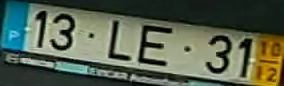1: (235, 36, 254, 80), (33, 9, 48, 50)
3: (202, 33, 234, 77), (48, 12, 76, 52)
E: (136, 23, 173, 68)
L: (106, 18, 131, 63)
